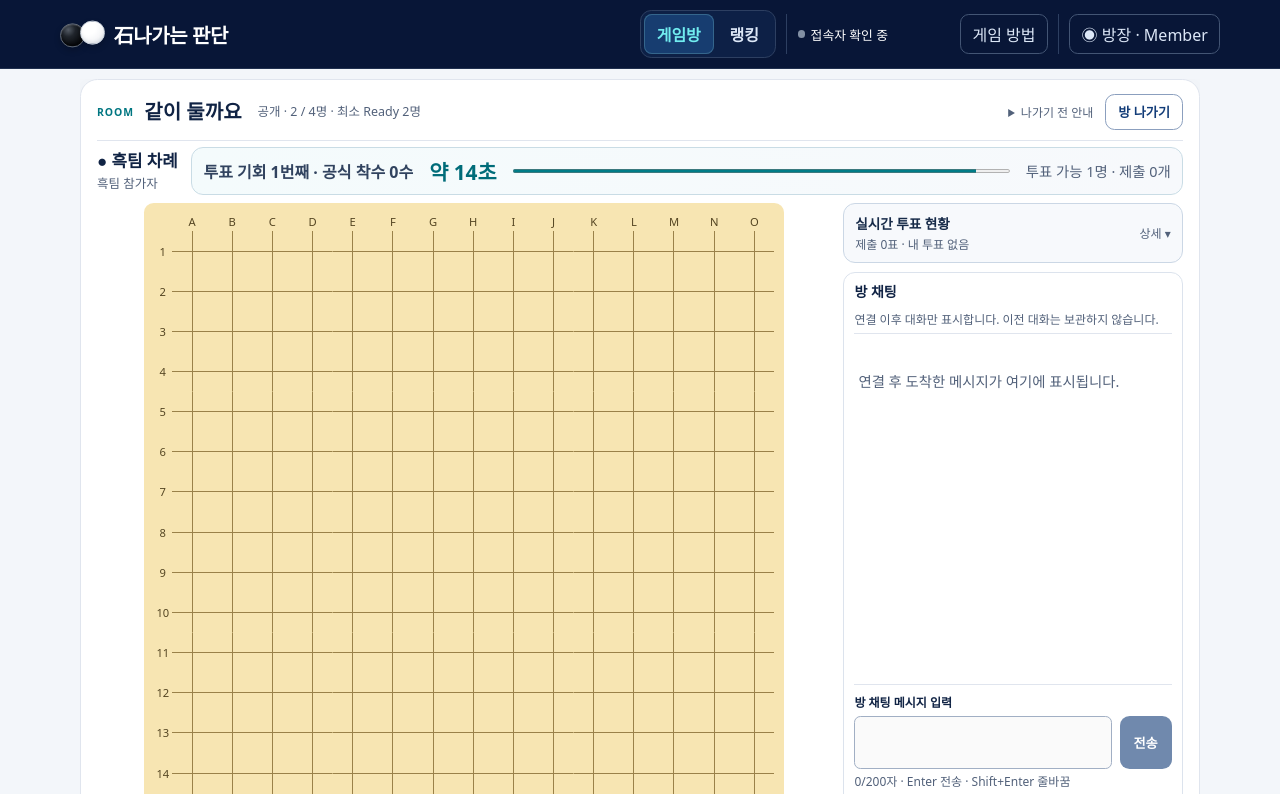
Test case: game screen flow › does not replay a lost vote response and refreshes the confirmed vote
Click the button named "H8 빈 자리": [473, 532] box [453,512,493,552]
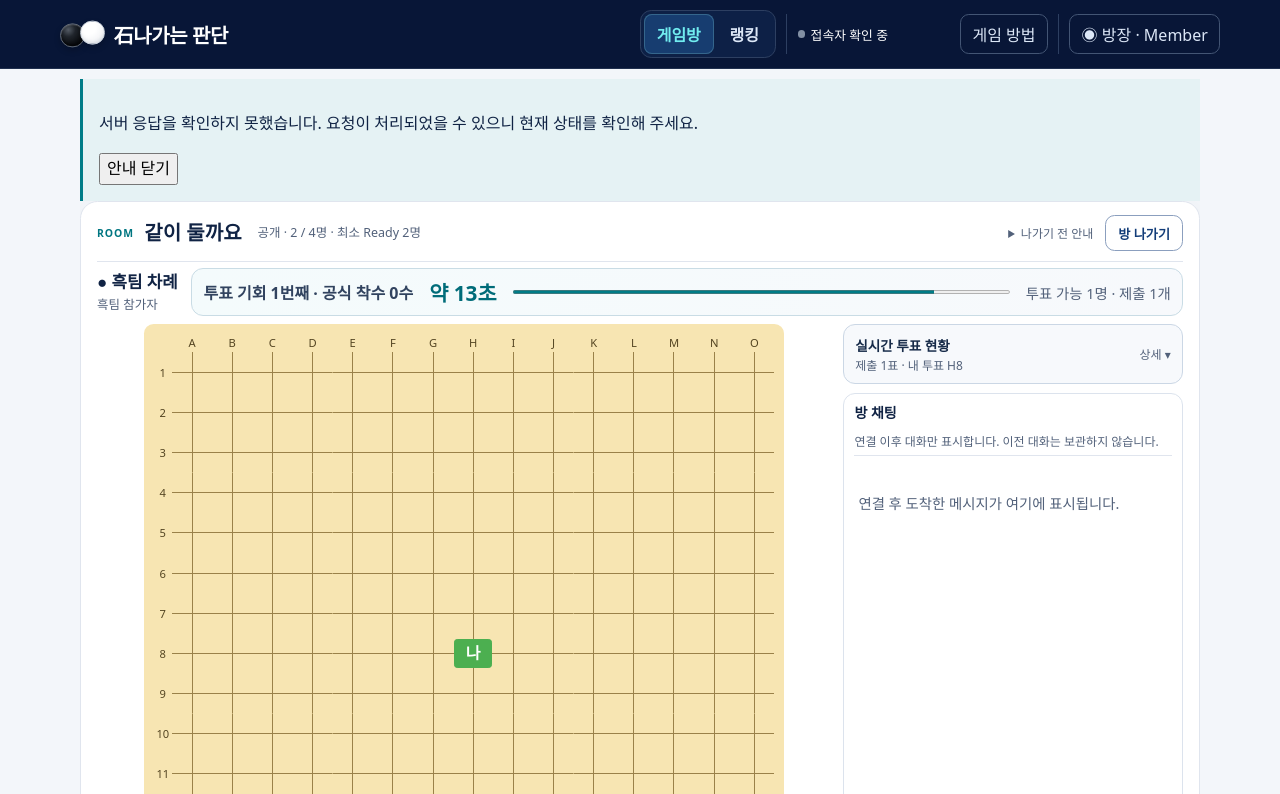
Now the text "서버 응답을 확인하지 못했습니다. 요청이 처리되었을 수 있으니 현재 상태를 확인해 주세요." is shown, box [99,112,698,134]
